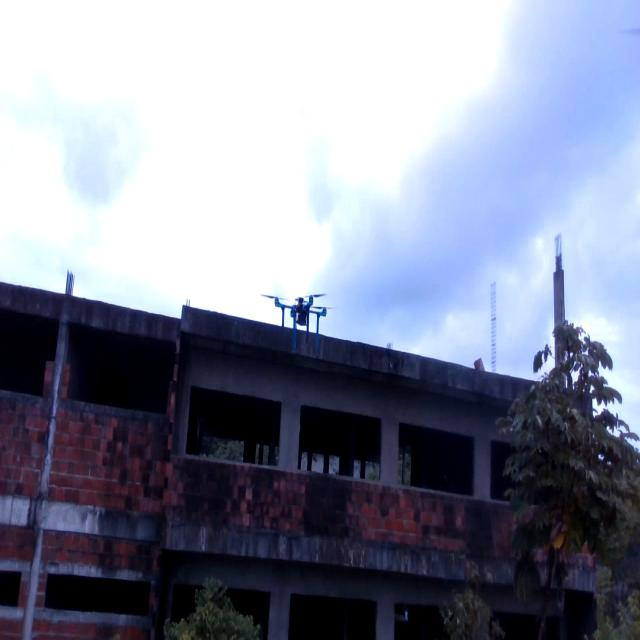-uav-: (257, 274, 344, 360)
